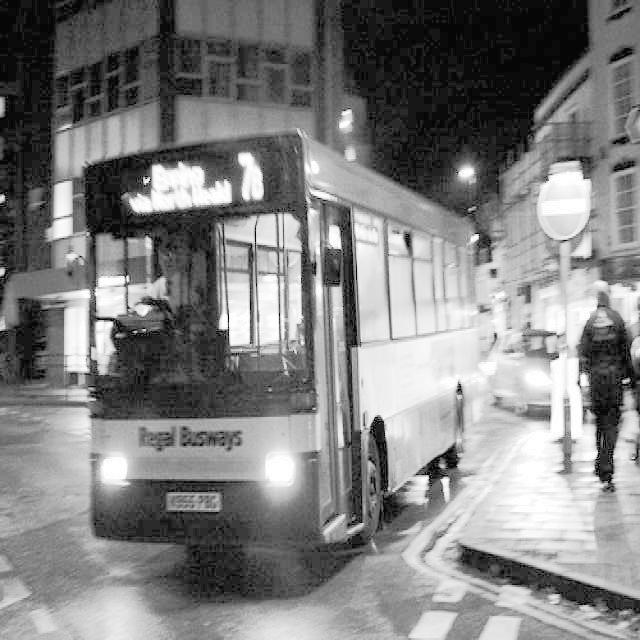Bus: (38, 151, 508, 604)
Car: (490, 294, 575, 452)
